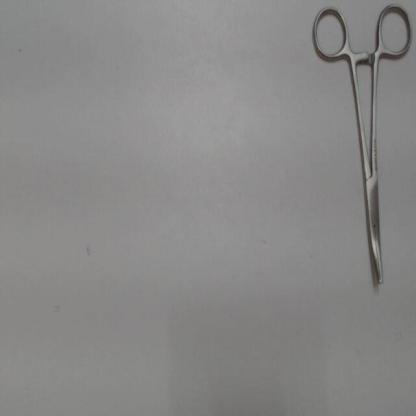Crile Artery Forceps: (307, 1, 414, 289)
